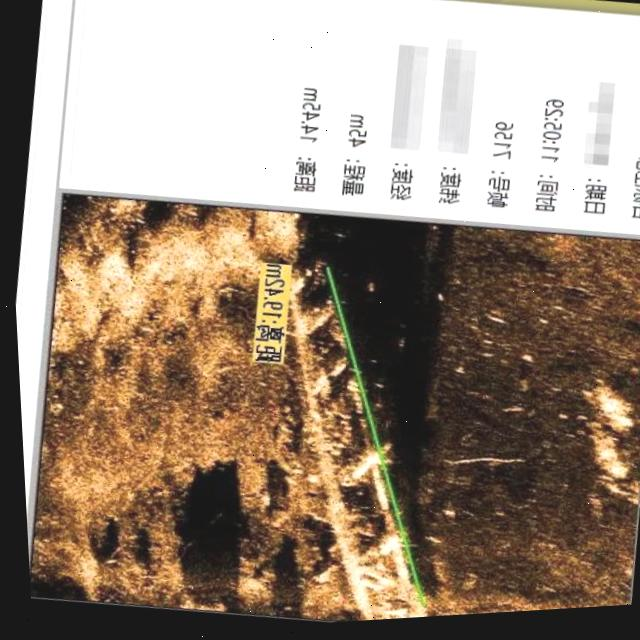shipwreck: (236, 264, 466, 630)
